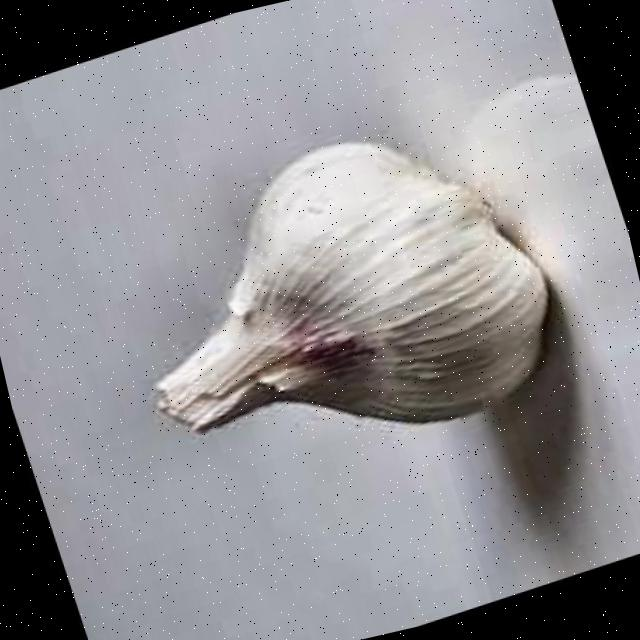garlic: (155, 141, 547, 433)
